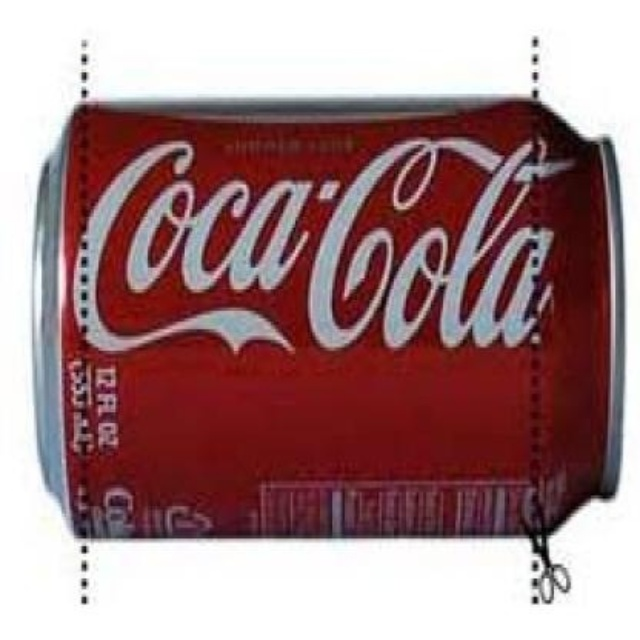trash: (35, 98, 622, 568)
